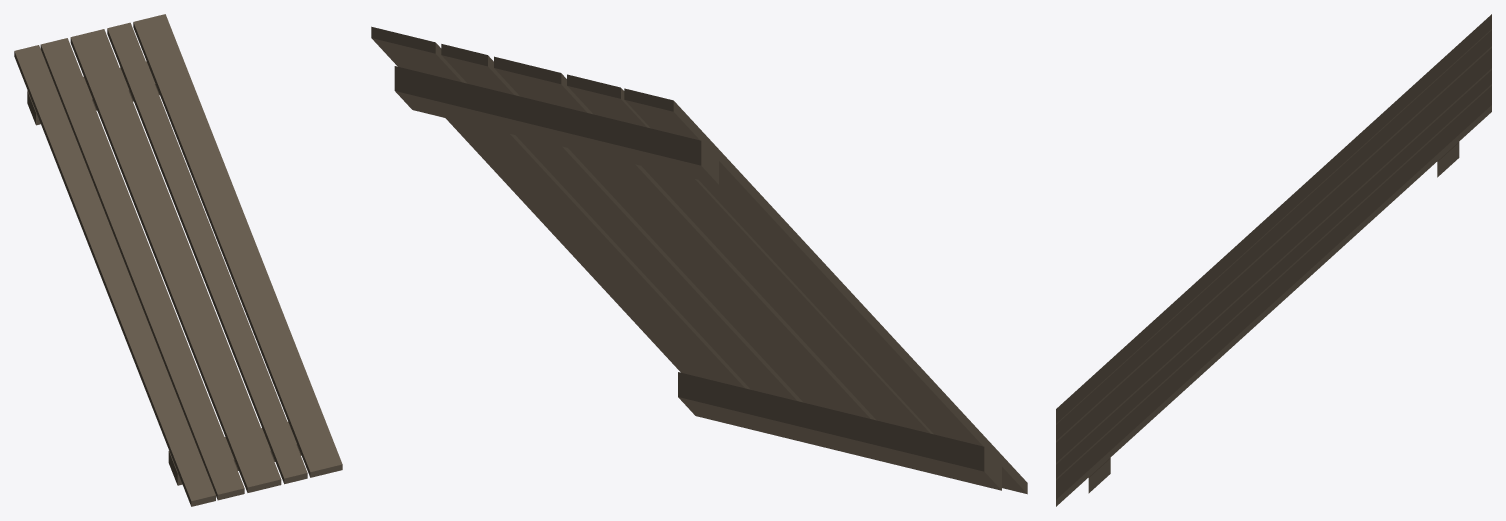
The model's file is dach_bretter_1x2.glb.
The picture shows the model from 3 angles, left to right: view 1: azimuth 30°, elevation 25°; view 2: azimuth 150°, elevation 25°; view 3: azimuth 270°, elevation 25°; orthographic projection. The views are drawn at different scales.
Parts seen in each view (by area): view 1: dach_bretter_1x2; view 2: dach_bretter_1x2; view 3: dach_bretter_1x2.
Part boxes in pixels (left/top/right/bottom): dach_bretter_1x2: left=14, top=14, right=342, bottom=506; dach_bretter_1x2: left=371, top=26, right=1027, bottom=494; dach_bretter_1x2: left=1056, top=14, right=1491, bottom=506.
Bounding box in the file's own units: 1 × 2.04 × 2.
